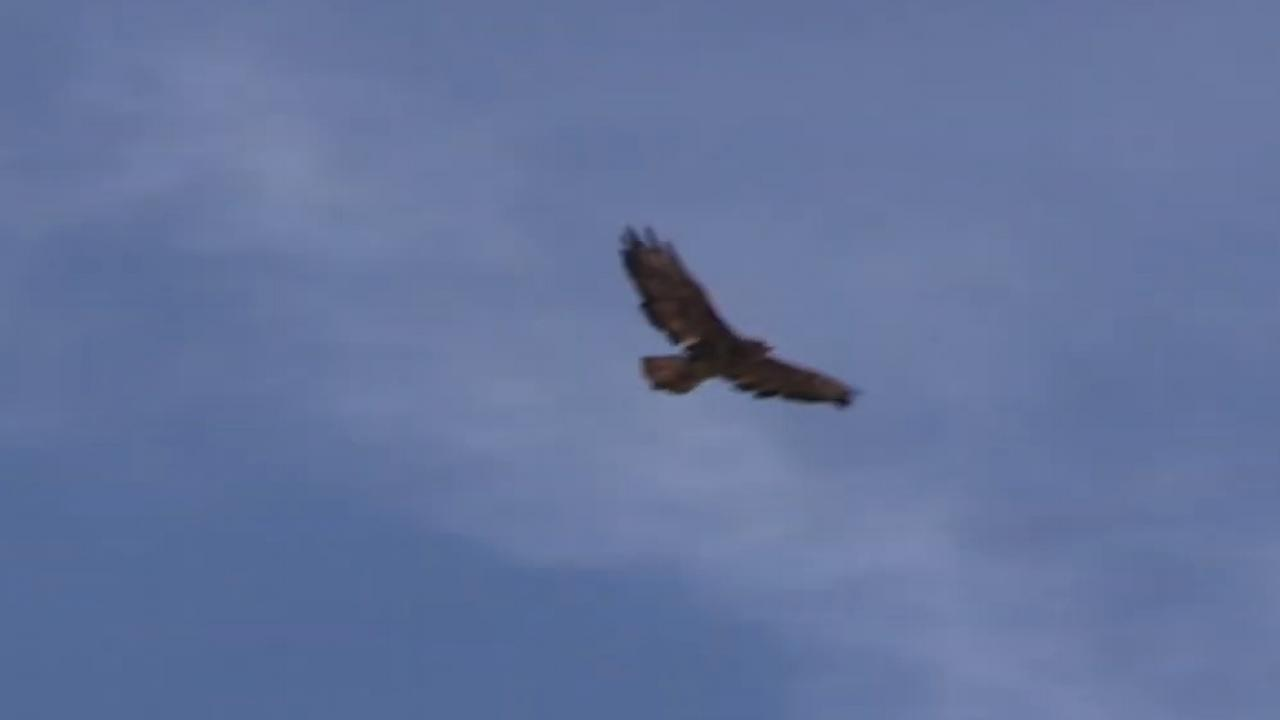Bird: (609, 216, 867, 420)
